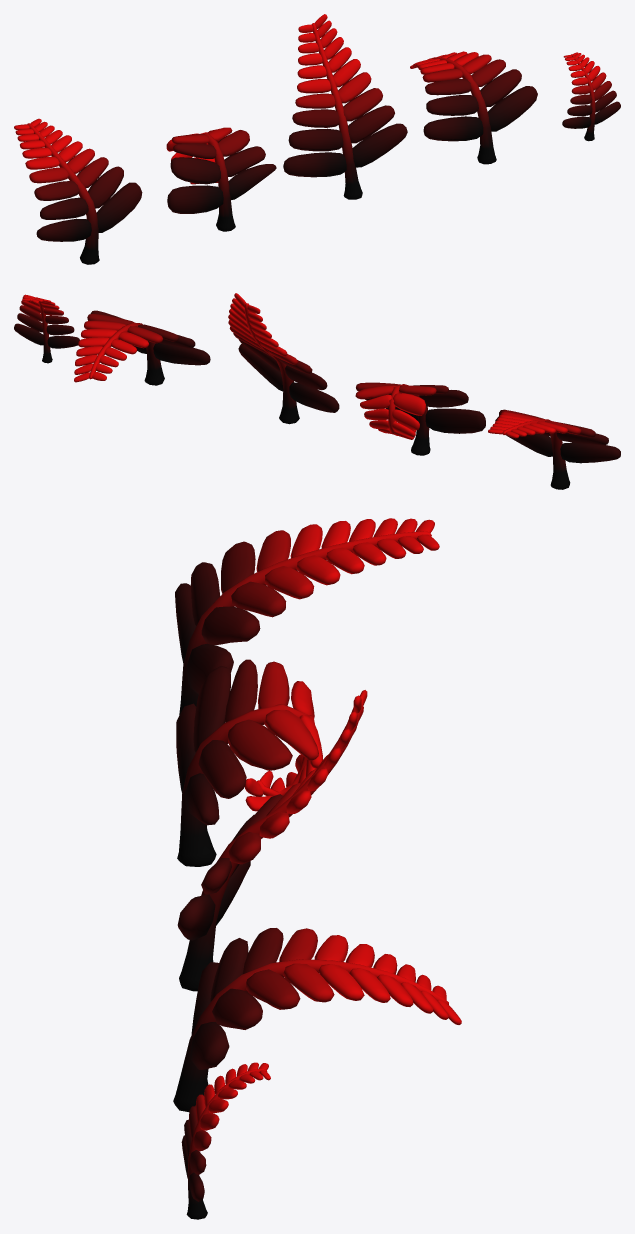
File: KM_Fougere01.fbx
3 views of the same model, one above another, from view 1: azimuth 30°, elevation 25°; view 2: azimuth 150°, elevation 25°; view 3: azimuth 270°, elevation 25° (orthographic). The views are drawn at different scales.
Visible parts, largest first — view 1: fougere03, fougere05, fougere02, fougere04, fougere01; view 2: fougere04, fougere02, fougere03, fougere05, fougere01; view 3: fougere04, fougere05, fougere02, fougere03, fougere01.
Part boxes in pixels (x1,y1,x2,y2): fougere03: (283, 14, 407, 199); fougere05: (14, 118, 142, 264); fougere02: (410, 51, 537, 164); fougere04: (166, 127, 276, 231); fougere01: (562, 52, 620, 141); fougere04: (355, 382, 485, 455); fougere02: (74, 310, 210, 385); fougere03: (228, 293, 339, 424); fougere05: (488, 409, 620, 489); fougere01: (14, 294, 79, 363); fougere04: (176, 659, 322, 866); fougere05: (175, 518, 439, 715); fougere02: (173, 928, 461, 1111); fougere03: (177, 690, 367, 991); fougere01: (181, 1062, 270, 1219).
Bounding box in the file's own units: 2 × 0.4941 × 0.426.
